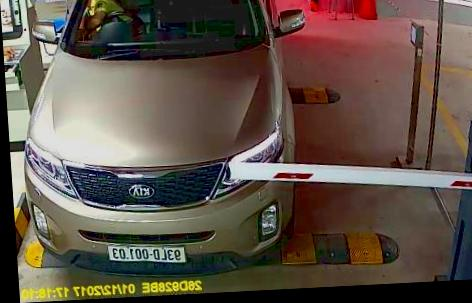License_Plate: (107, 240, 188, 267)
